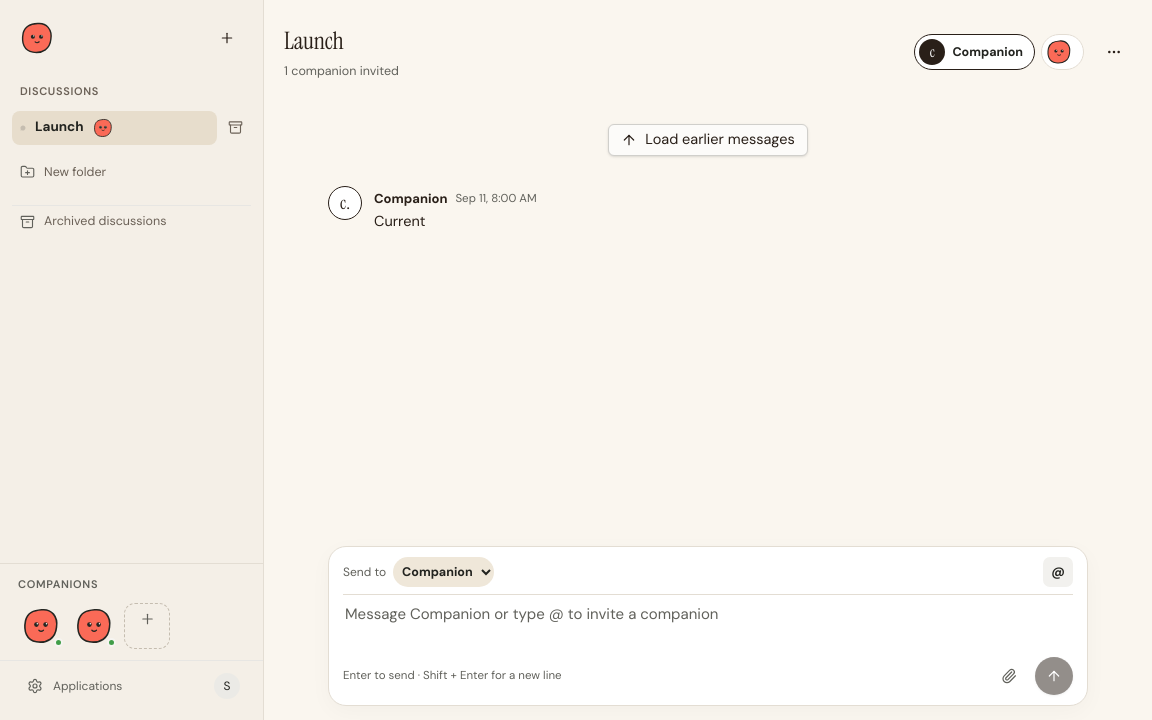
Test: discussions workspace › loads older messages before the current snapshot without duplicating the page
Expected: the text "Current" is shown, [374,212,425,230]
Click the button "Load earlier messages". click: coordinates (708, 140)
box: [608,124,808,156]
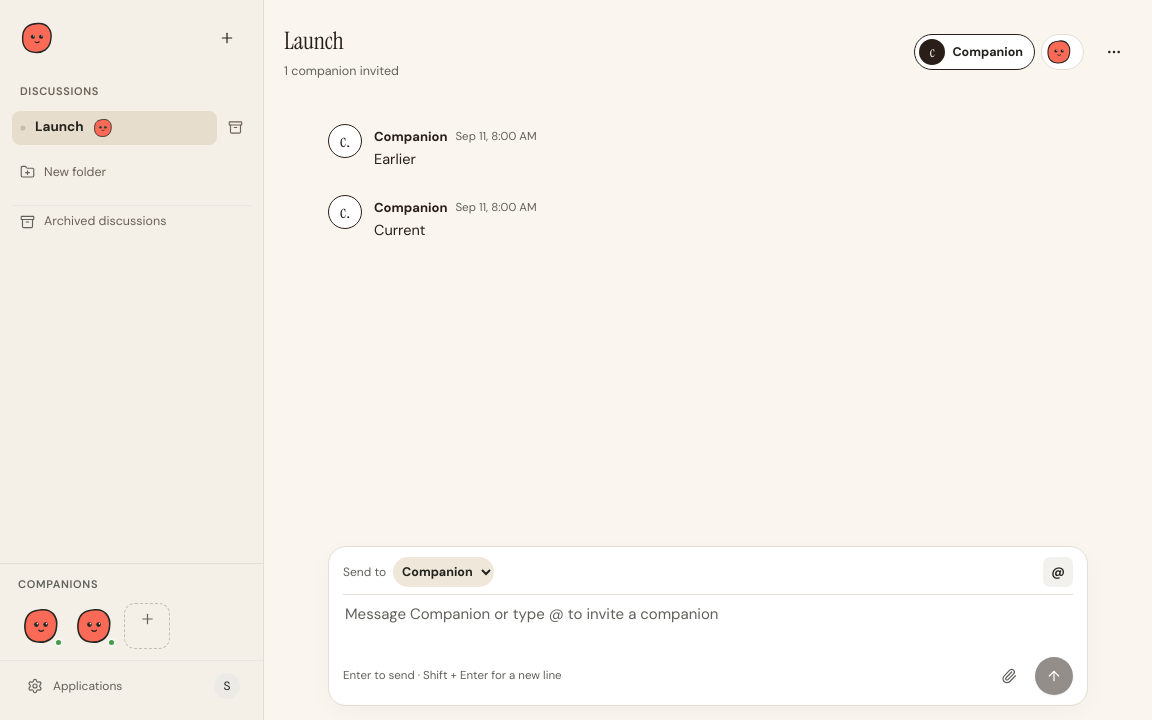
Expected: the text "Earlier" is shown, [374,150,416,168]
Expected: the text "Current" is shown once, [374,222,425,240]
